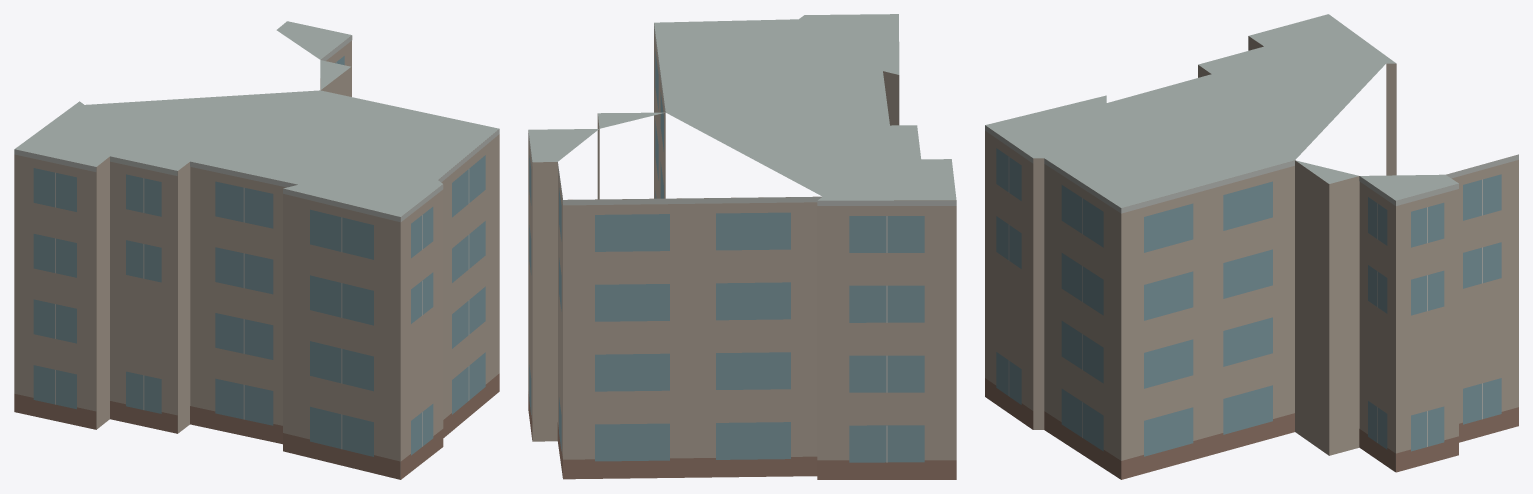
The model's file is survey-upis-32480127.glb.
3 views of the same model, side by side, from view 1: azimuth 30°, elevation 25°; view 2: azimuth 150°, elevation 25°; view 3: azimuth 270°, elevation 25° (orthographic). The views are drawn at different scales.
Parts seen in each view (by area): view 1: survey-upis-32480127.tmp; view 2: survey-upis-32480127.tmp; view 3: survey-upis-32480127.tmp.
Part boxes in pixels (x1,y1,x2,y2): survey-upis-32480127.tmp: (14,21,499,479); survey-upis-32480127.tmp: (528,14,956,479); survey-upis-32480127.tmp: (985,14,1518,479).
Size of the model in its own units: 18.71 by 12.2 by 21.73.
